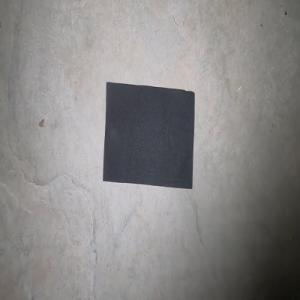PaintChip: (102, 81, 194, 189)
